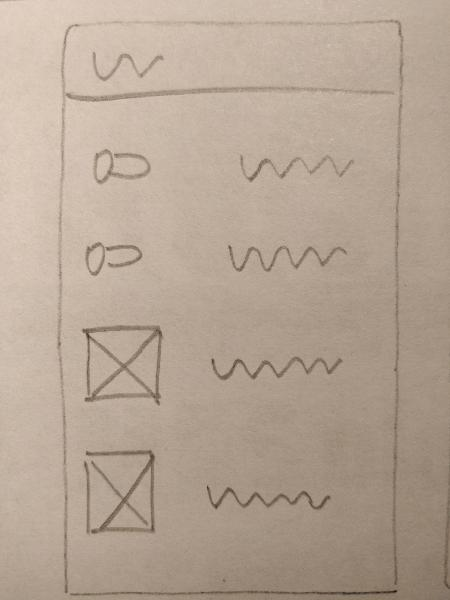image: (75, 446, 165, 542), (76, 321, 170, 410)
switch: (85, 141, 156, 193), (80, 229, 151, 281)
text: (204, 349, 348, 387), (198, 479, 342, 517), (233, 148, 361, 187), (222, 233, 350, 272), (86, 41, 167, 81)
